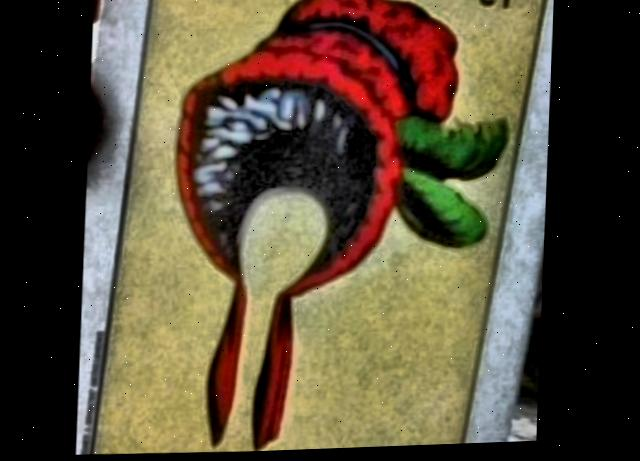El Gorrito: (97, 0, 543, 454)
